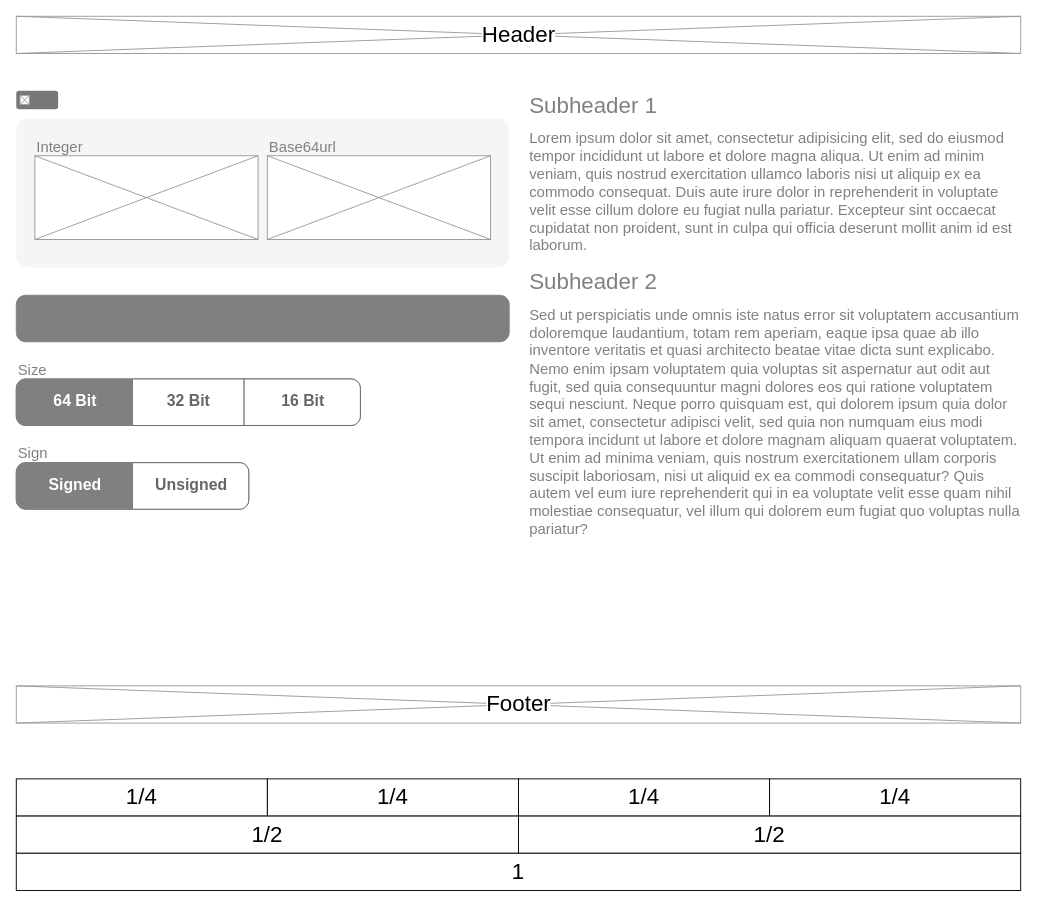
Image size: 1037x907. Some labels were removed from this diagram. The shapes that lost their labels are listed below. From the top down, each one's centre as x and y in pixels, then its label:
At pixel 37 99: "Valid".
At pixel 262 318: "Generate Random".
